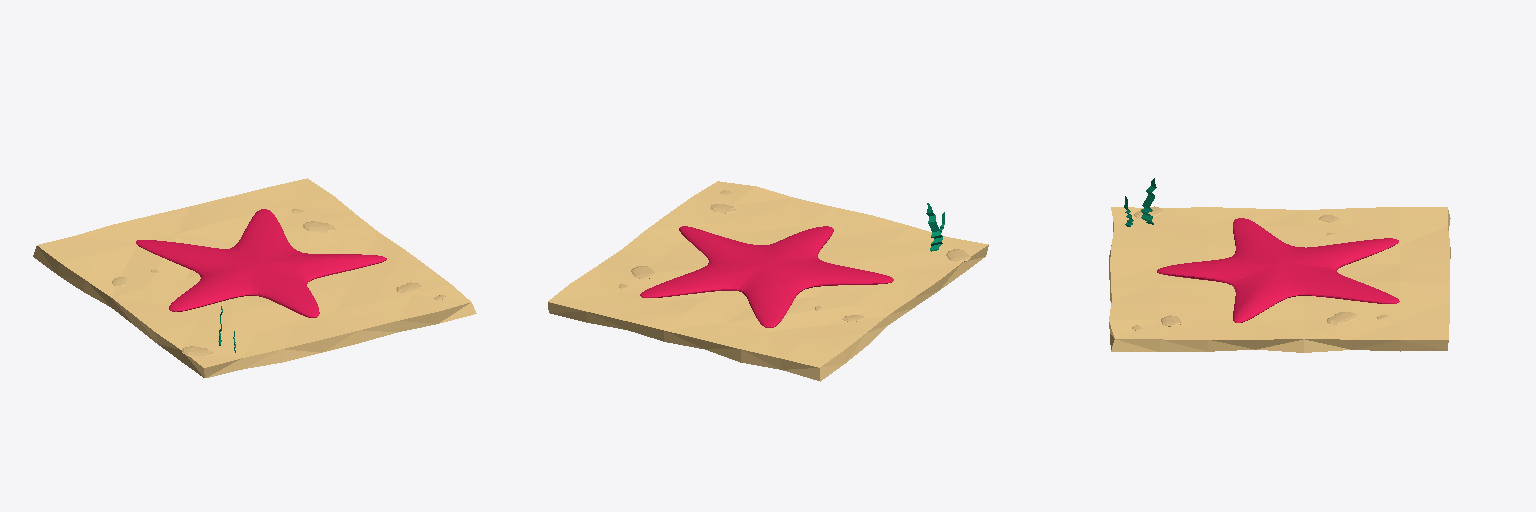
File: Lowpoly_Starfish.obj
The picture shows the model from 3 angles: view 1: azimuth 30°, elevation 25°; view 2: azimuth 150°, elevation 25°; view 3: azimuth 270°, elevation 25°; orthographic projection.
Visible parts, largest first — view 1: Mesh; view 2: Mesh; view 3: Mesh.
Boxes of the visible parts, <box> form: Mesh: <box>33,178,476,377</box>; Mesh: <box>548,181,988,381</box>; Mesh: <box>1109,178,1450,352</box>.
Size of the model in its own units: 5.03 by 1.06 by 5.4.